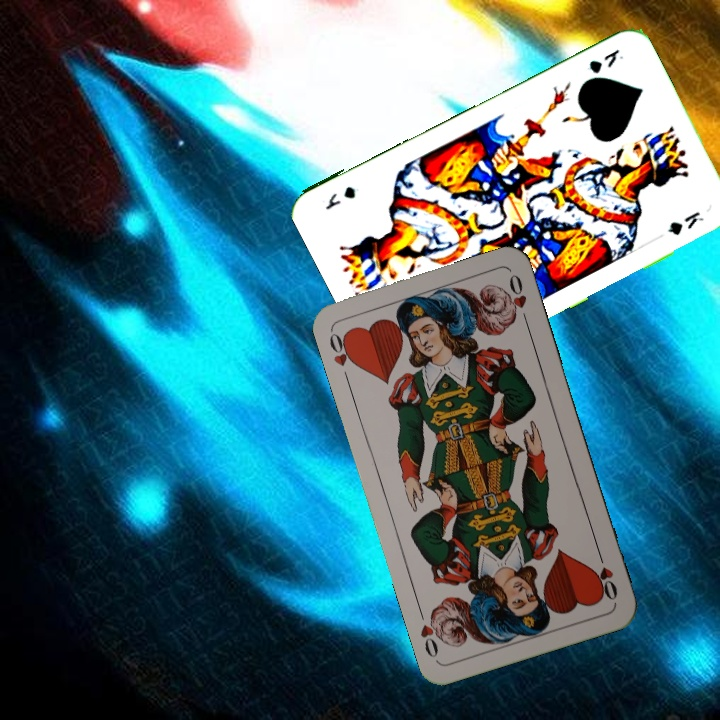GK: (585, 45, 626, 76)
HO: (325, 327, 359, 384), (590, 547, 620, 603)
